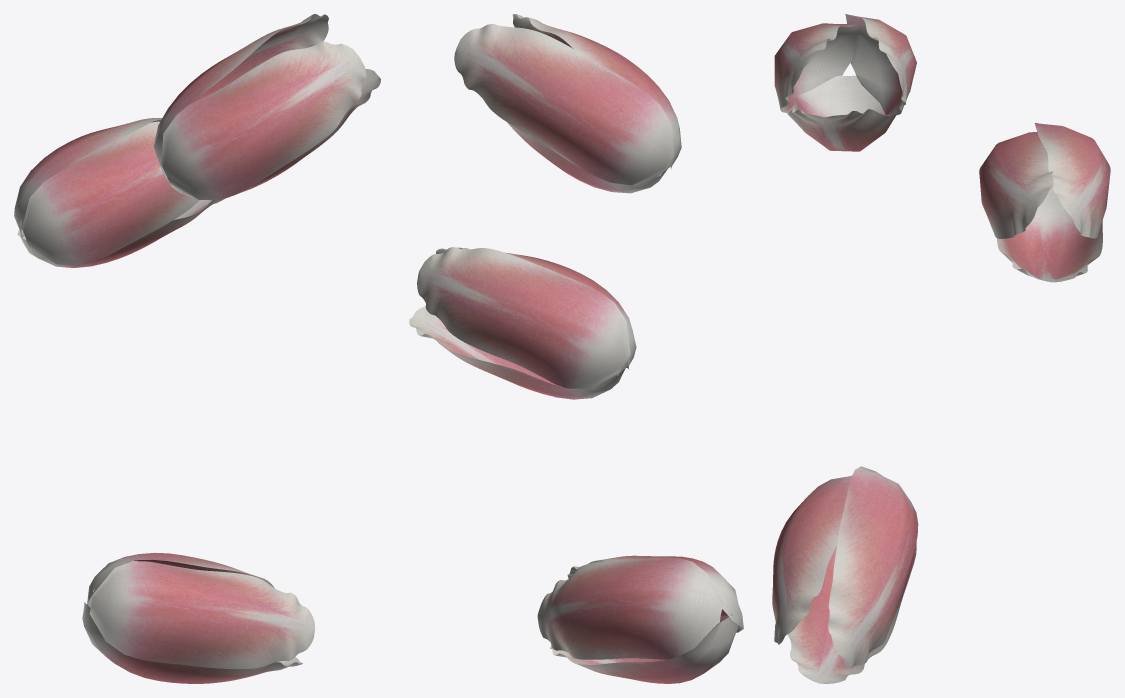
Rendered from TulipFlower001.obj.
The picture shows the model from 3 angles, left to right: view 1: azimuth 30°, elevation 25°; view 2: azimuth 150°, elevation 25°; view 3: azimuth 270°, elevation 25°; orthographic projection. The views are drawn at different scales.
Visible parts, largest first — view 1: TulipFlower001; view 2: TulipFlower001; view 3: TulipFlower001.
Part boxes in pixels (<box>): TulipFlower001: <box>14,14,380,683</box>; TulipFlower001: <box>409,14,743,683</box>; TulipFlower001: <box>772,14,1110,683</box>.
Bounding box in the file's own units: 0.0772 × 0.1696 × 0.0773.
1 material, 1 textured.
